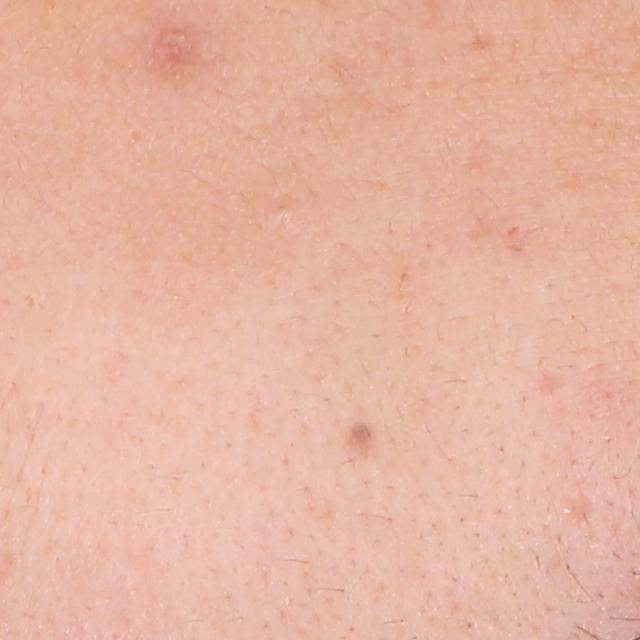atrophic_scar: (531, 367, 572, 400), (564, 496, 599, 526)
comedo: (275, 198, 304, 223)
nevus: (345, 420, 375, 457)
